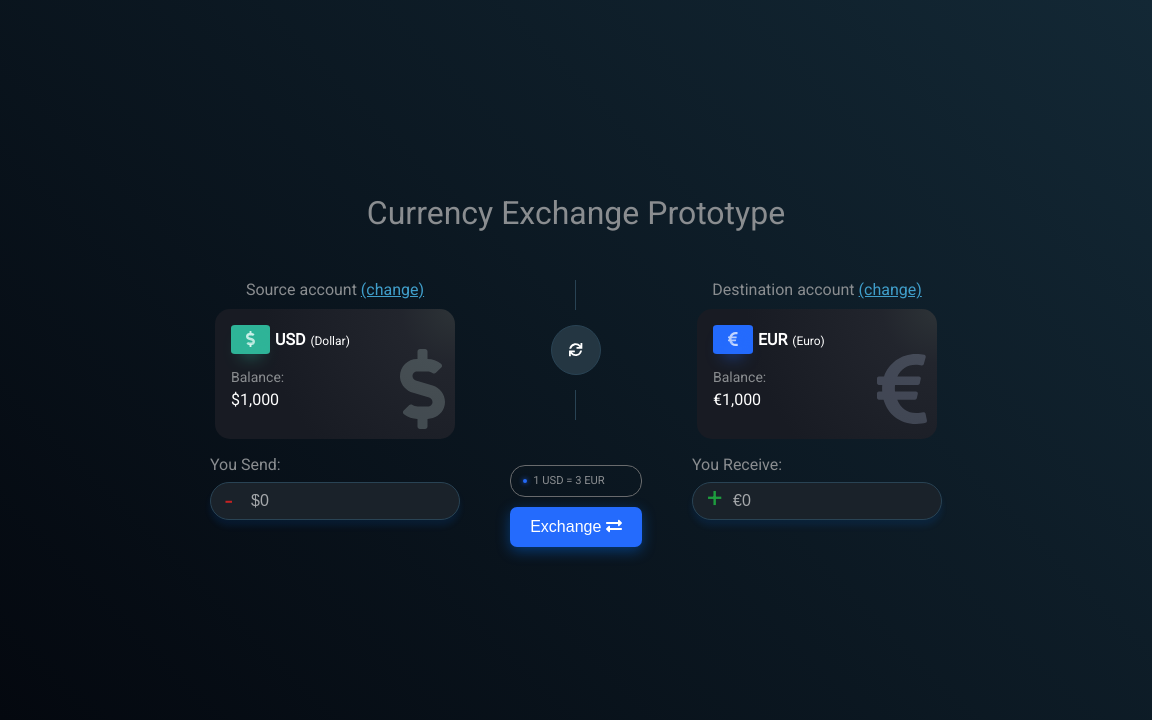
Test: exchange should change balances
Expected: the text "1 USD = 3 EUR" is shown, x1=533 y1=474 x2=605 y2=487
Type "100" into the field labelled "You Send:" at (335, 501), box x1=210 y1=482 x2=460 y2=520
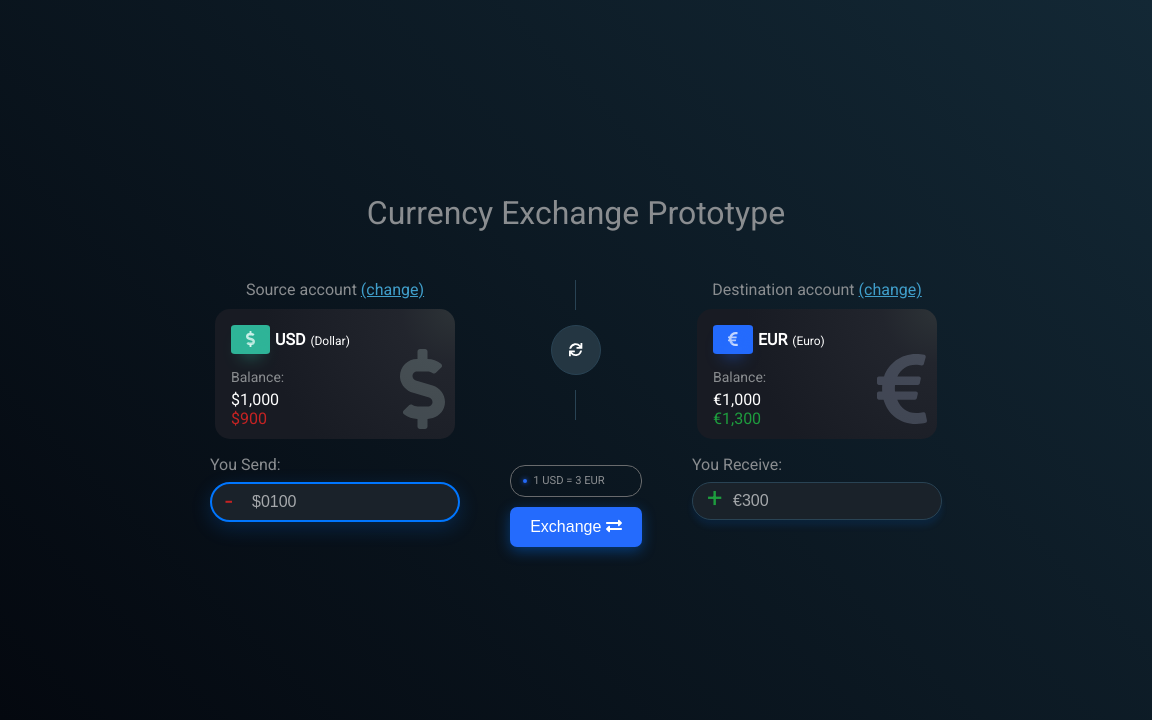
Click the button with test id "exchange-button" at (576, 527), box x1=510 y1=507 x2=642 y2=547
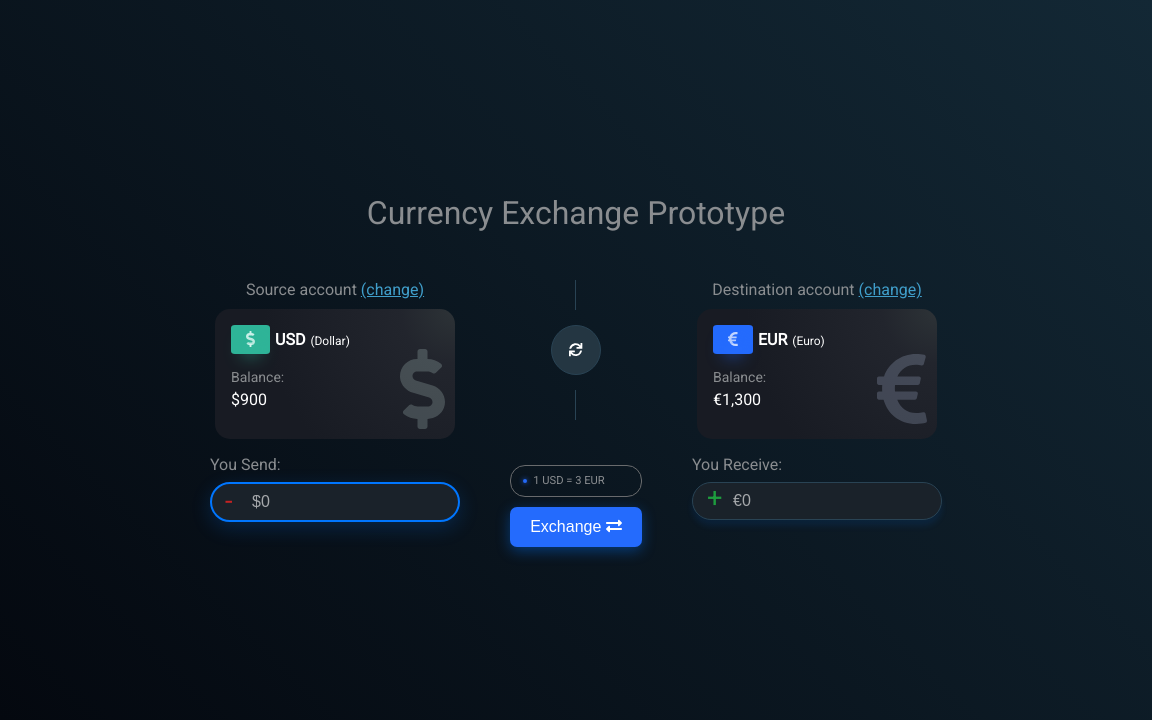
Expected: the element with test id "balance" reads "$900", x1=231 y1=390 x2=267 y2=409
Expected: the element with test id "balance" reads "€1,300", x1=713 y1=390 x2=761 y2=409
